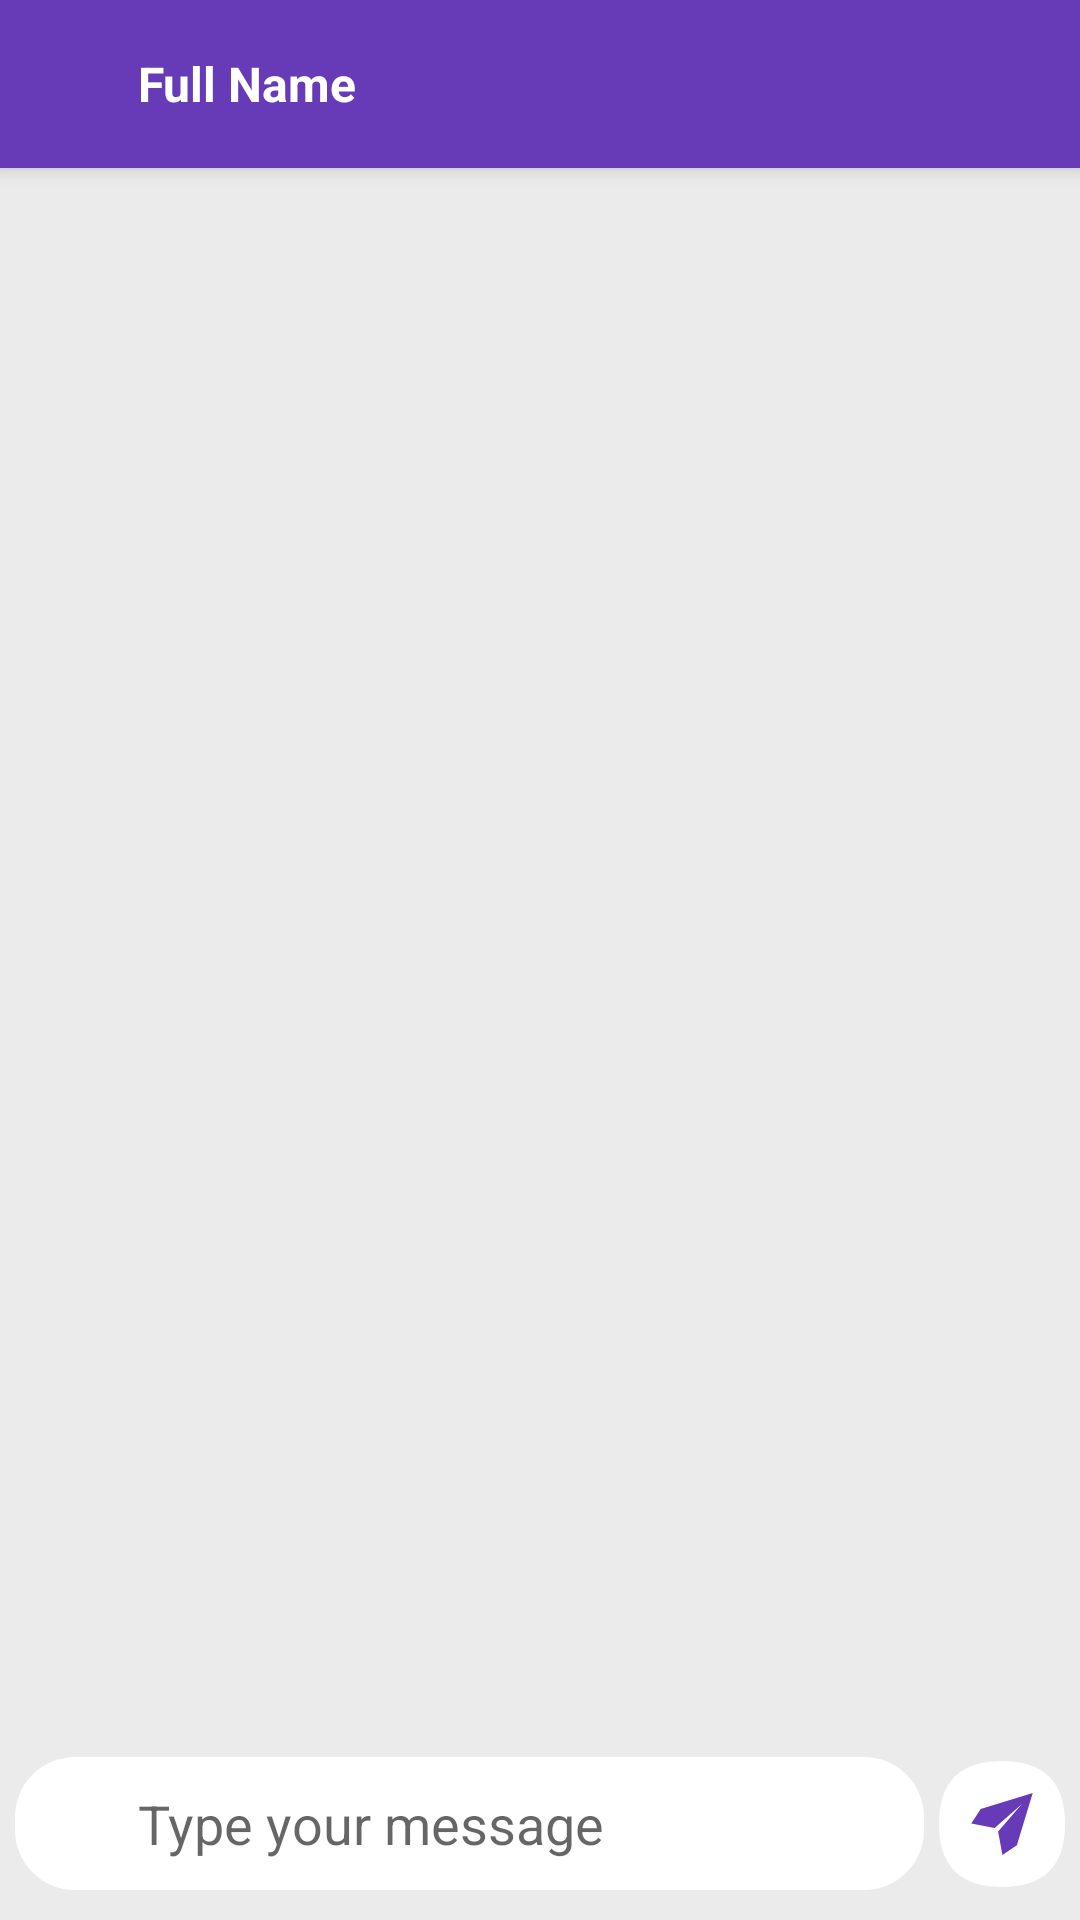

Named icons in this screenshot (1080 x 1920) and their bounding boxes, (left=x1, top=y1, right=x2, bottom=y2):
send: (left=971, top=1793, right=1033, bottom=1855)
